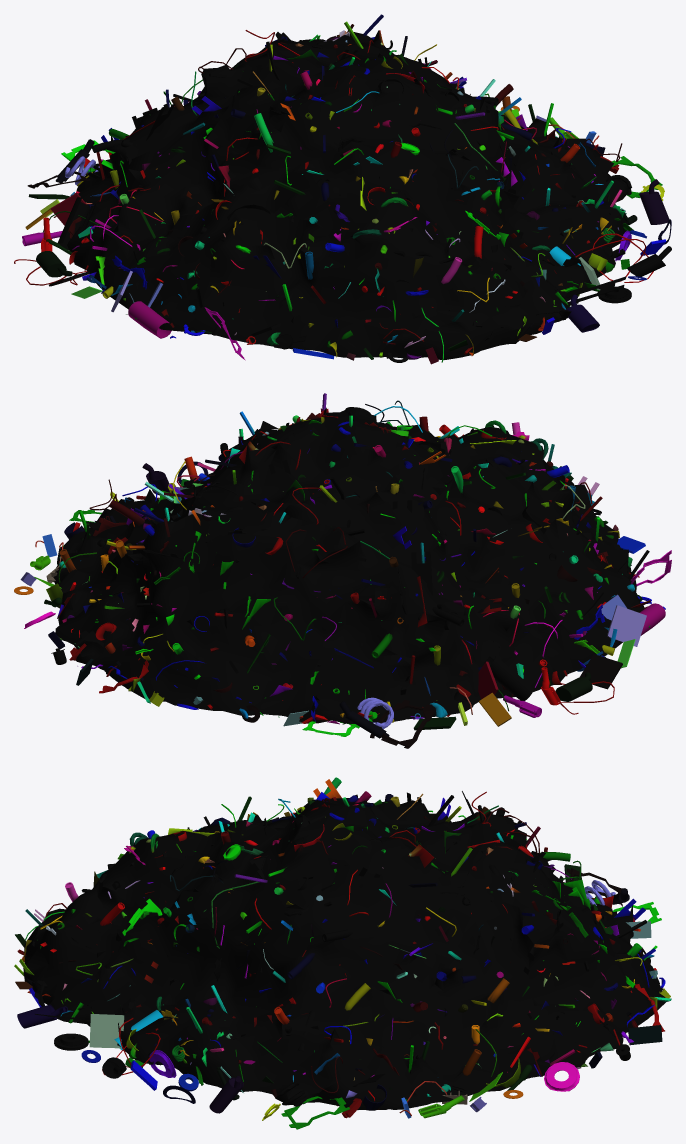
File: Scrap01.fbx
3 renders of one model, top to bottom at view 1: azimuth 30°, elevation 25°; view 2: azimuth 150°, elevation 25°; view 3: azimuth 270°, elevation 25°, orthographic. The views are drawn at different scales.
Parts seen in each view (by area): view 1: Scrap01_LOD0; view 2: Scrap01_LOD0; view 3: Scrap01_LOD0.
Boxes of the visible parts, x1,y1,x2,y2 form: Scrap01_LOD0: [14, 14, 671, 364]; Scrap01_LOD0: [14, 393, 671, 748]; Scrap01_LOD0: [14, 777, 671, 1129].
Size of what is drawn, in the model's own units: 1032 by 310 by 985.
